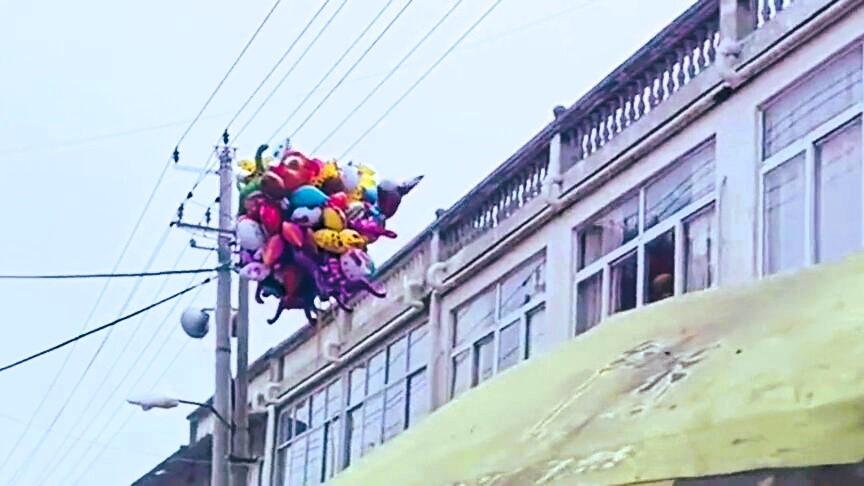wire foreign body: (216, 126, 416, 327)
